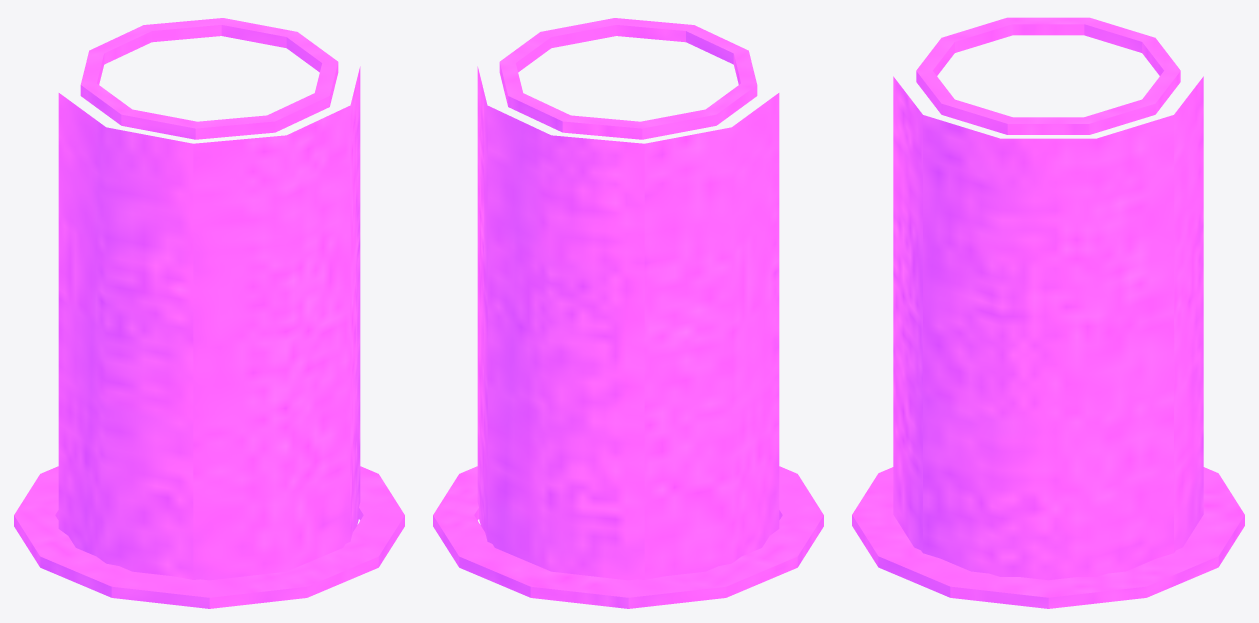
The model's file is fx_warp_l.glb.
3 views of the same model, side by side, from view 1: azimuth 30°, elevation 25°; view 2: azimuth 150°, elevation 25°; view 3: azimuth 270°, elevation 25° (orthographic).
Parts seen in each view (by area): view 1: fx_warp_l; view 2: fx_warp_l; view 3: fx_warp_l.
Part boxes in pixels (left/top/right/bottom): fx_warp_l: left=14, top=18, right=404, bottom=608; fx_warp_l: left=433, top=18, right=823, bottom=608; fx_warp_l: left=852, top=17, right=1244, bottom=608.
Bounding box in the file's own units: 1.9 × 2.43 × 1.9.
1 material, 1 textured.
